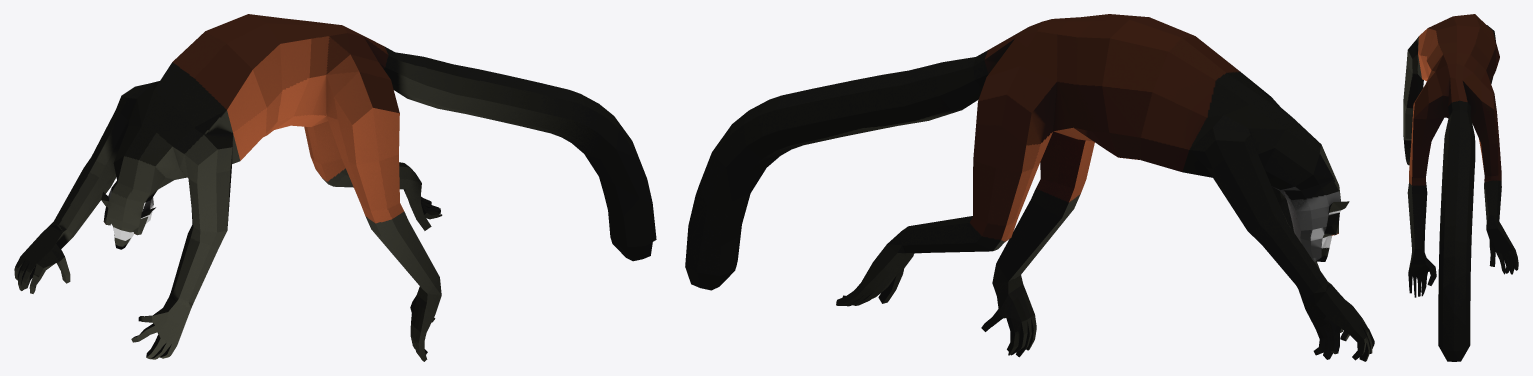
Rendered from notharctus.glb.
3 views of the same model, side by side, from view 1: azimuth 30°, elevation 25°; view 2: azimuth 150°, elevation 25°; view 3: azimuth 270°, elevation 25° (orthographic). The views are drawn at different scales.
Size of the model in its own units: 0.7319 by 0.3944 by 0.1787.
Materials: 1 (1 with a texture image).
